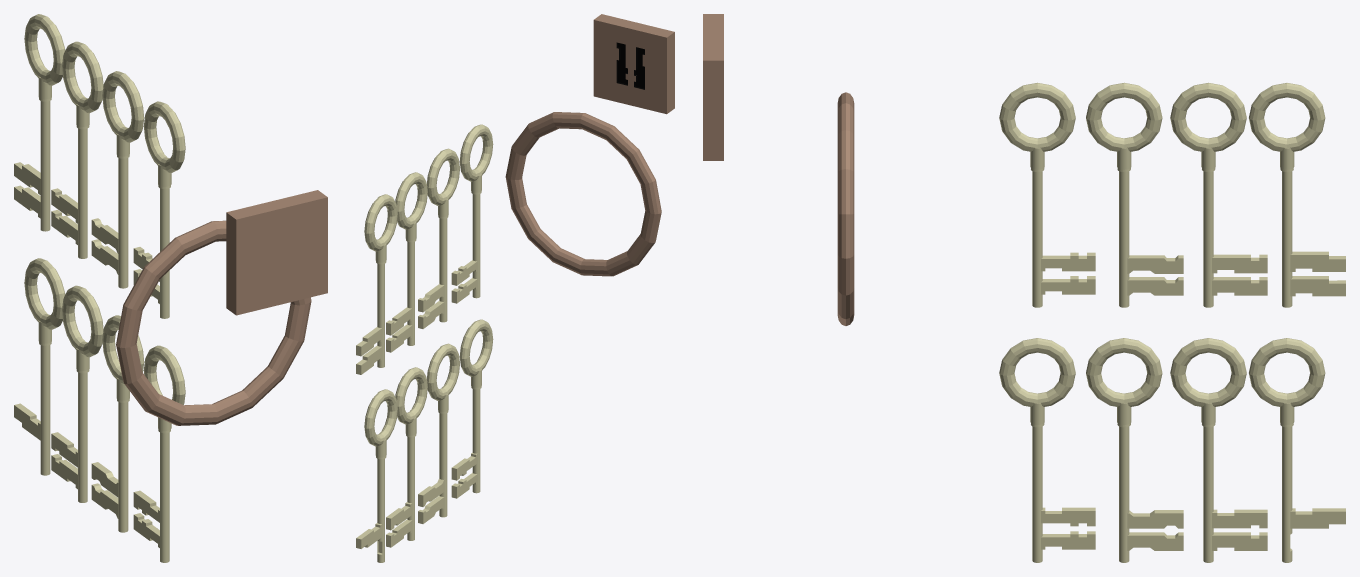
File: keysAndLock.fbx
The picture shows the model from 3 angles, left to right: view 1: azimuth 30°, elevation 25°; view 2: azimuth 150°, elevation 25°; view 3: azimuth 270°, elevation 25°; orthographic projection. The views are drawn at different scales.
Visible parts, largest first — view 1: Lock, ringForKeys, Key_6, Key_8, Key_2, Key_7, Key_1, Key_4, Key_3, Key_5; view 2: ringForKeys, Lock, Key_6, Key_3, Key_4, Key_5, Key_8, Key_7, Key_2, Key_1; view 3: Key_8, Key_2, Key_7, Key_3, Key_6, Key_5, Key_4, Key_1, ringForKeys, Lock.
Boxes of the visible parts, left/top/right/bottom form: Lock: left=226, top=190, right=327, bottom=315; ringForKeys: left=116, top=220, right=311, bottom=425; Key_6: left=91, top=71, right=144, bottom=288; Key_8: left=14, top=14, right=65, bottom=231; Key_2: left=51, top=285, right=103, bottom=502; Key_7: left=51, top=41, right=103, bottom=258; Key_1: left=14, top=258, right=65, bottom=475; Key_4: left=133, top=345, right=185, bottom=562; Key_3: left=91, top=315, right=144, bottom=532; Key_5: left=133, top=101, right=185, bottom=318; ringForKeys: left=505, top=112, right=661, bottom=276; Lock: left=593, top=14, right=674, bottom=114; Key_6: left=418, top=148, right=459, bottom=328; Key_3: left=418, top=343, right=459, bottom=523; Key_4: left=451, top=319, right=493, bottom=498; Key_5: left=451, top=124, right=493, bottom=303; Key_8: left=356, top=194, right=397, bottom=374; Key_7: left=386, top=172, right=427, bottom=352; Key_2: left=386, top=367, right=427, bottom=547; Key_1: left=356, top=389, right=397, bottom=562; Key_8: left=1249, top=83, right=1345, bottom=307; Key_2: left=1170, top=338, right=1267, bottom=562; Key_7: left=1170, top=82, right=1267, bottom=307; Key_3: left=1086, top=338, right=1183, bottom=562; Key_6: left=1086, top=82, right=1183, bottom=307; Key_5: left=999, top=82, right=1095, bottom=307; Key_4: left=999, top=338, right=1095, bottom=562; Key_1: left=1249, top=338, right=1345, bottom=562; ringForKeys: left=837, top=92, right=854, bottom=325; Lock: left=703, top=14, right=723, bottom=160.
Size of the model in its own units: 423 by 1001 by 1162.
